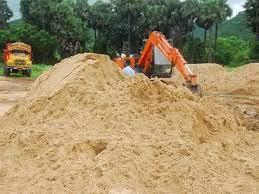sand: (191, 123, 210, 139), (144, 86, 161, 101), (135, 137, 153, 151), (76, 103, 97, 114), (57, 73, 73, 86)
